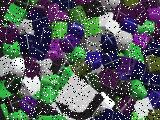Right: (51, 72, 105, 120)
